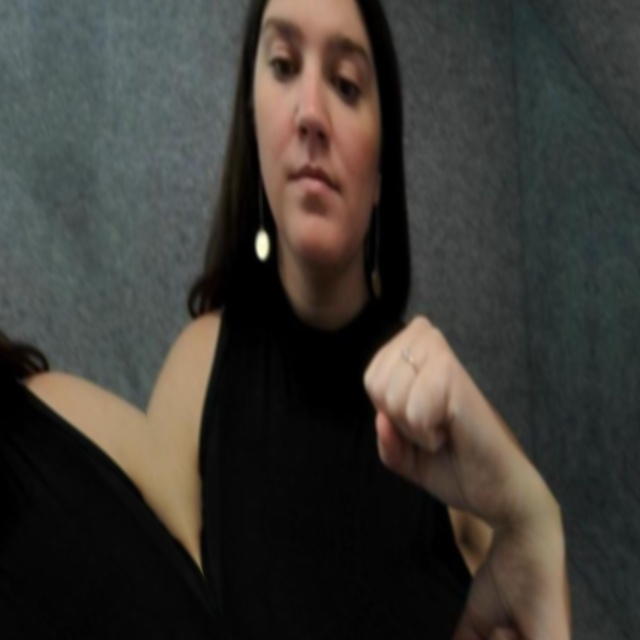Rock: (289, 249, 574, 571)
